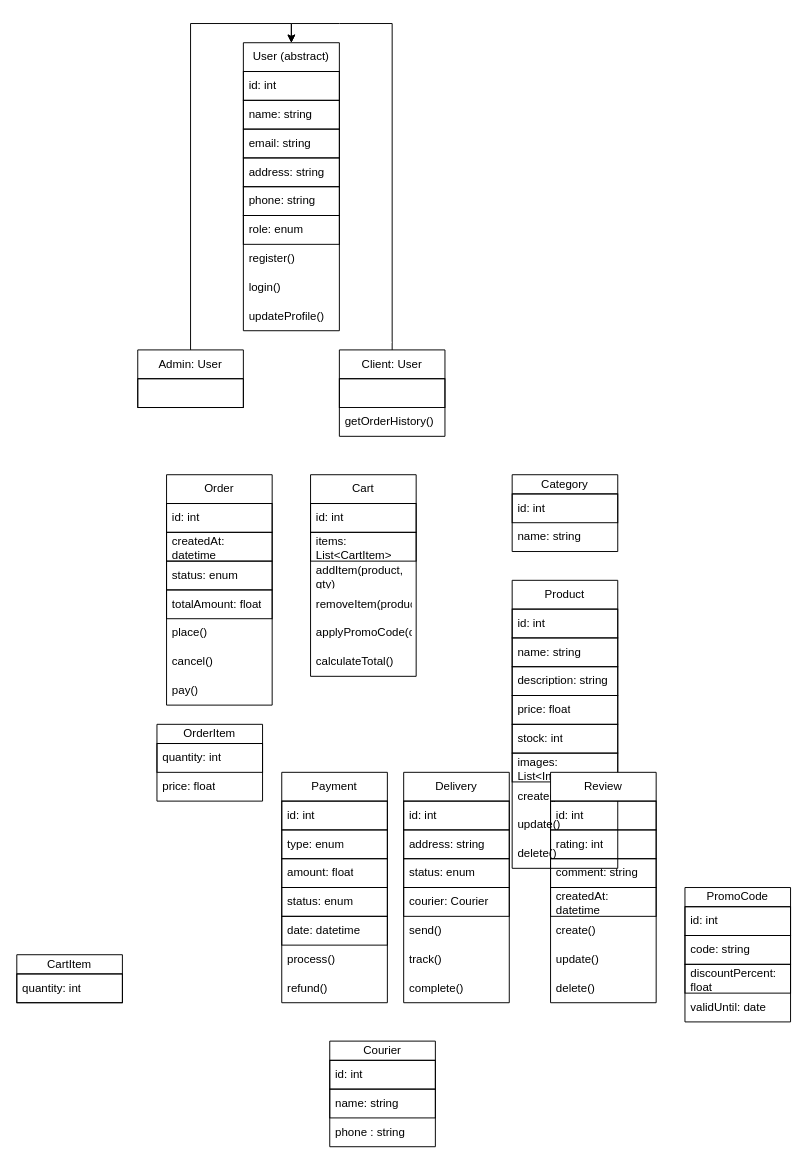
This 807x1164 diagram has some shape labels left out. The centre of each missing label's shape, as x and y in pixels:
"logAction(action)" goes at (190,393).
"loyaltyPoints: int" goes at (391,393).
